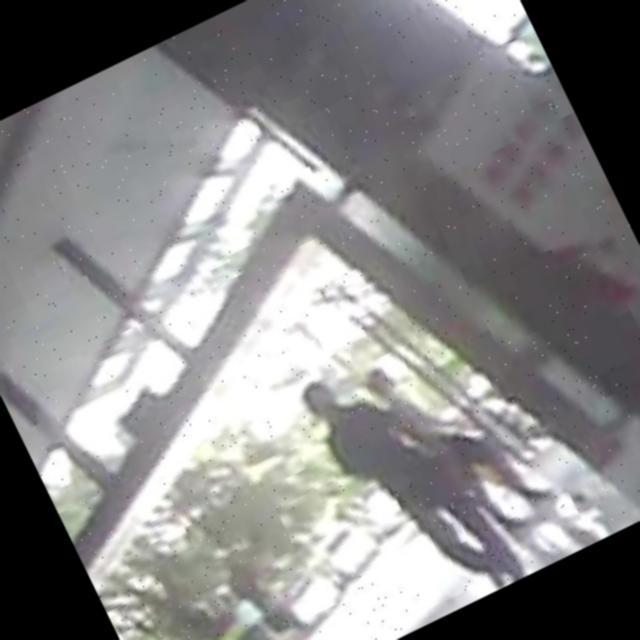person: (288, 320, 532, 632), (358, 323, 554, 558)
